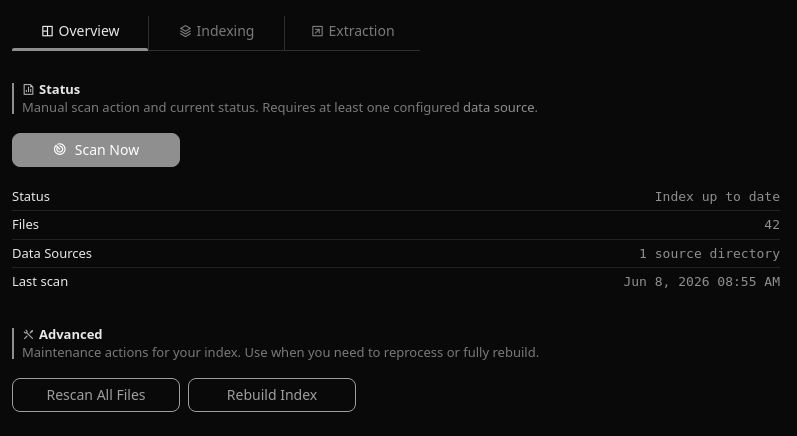
Test: SettingsView tabs and action bar behavior › switches to the Indexing and Extraction tabs and keeps the existing controls
Click the tab "Indexing".
click(216, 33)  # box top-left (148, 16), bottom-right (284, 50)
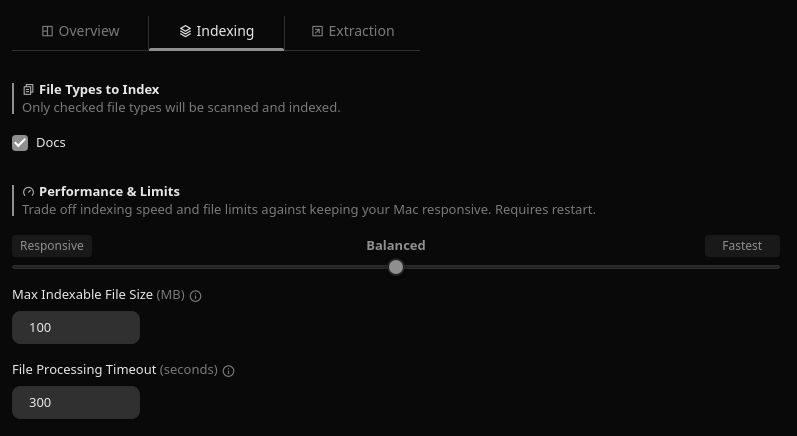
Now the text "File Types to Index" is shown, box top-left (22, 80), bottom-right (159, 98)
Now the text "Performance & Limits" is shown, box top-left (22, 182), bottom-right (180, 200)
Click the tab "Extraction".
click(352, 33)  # box top-left (284, 16), bottom-right (420, 50)
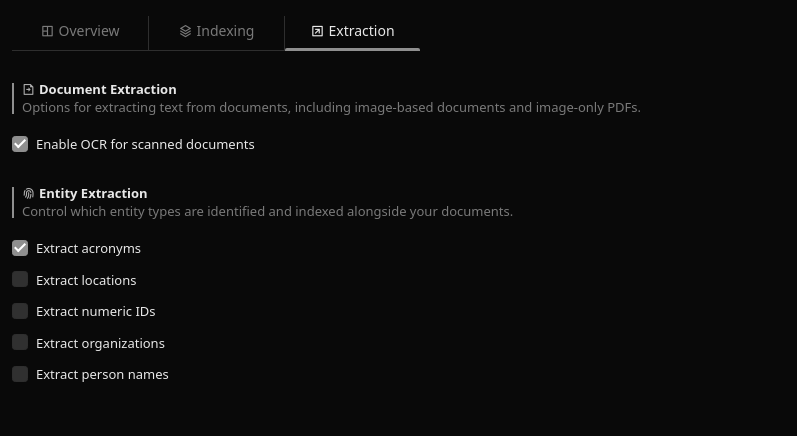
Now the checkbox labelled "Enable OCR for scanned documents" is shown, box top-left (12, 136), bottom-right (28, 152)
Now the text "Document Extraction" is shown, box top-left (22, 80), bottom-right (177, 98)
Now the text "Entity Extraction" is shown, box top-left (22, 184), bottom-right (148, 202)
